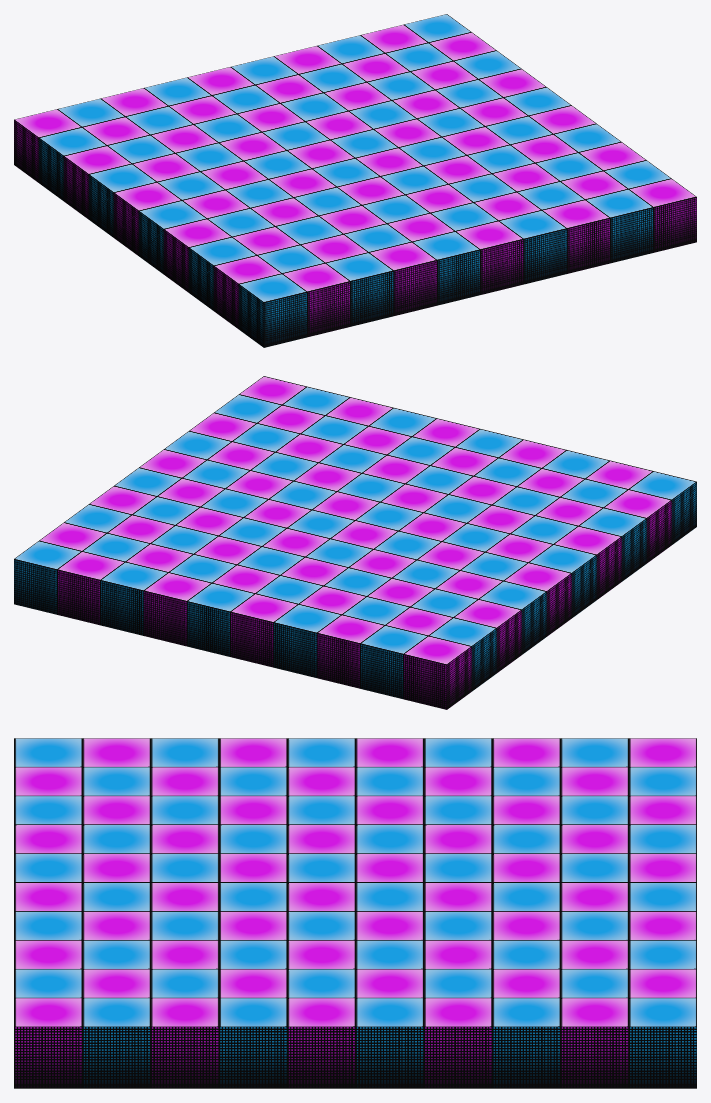
File: DJclub_Floor.fbx
3 renders of one model, top to bottom at view 1: azimuth 30°, elevation 25°; view 2: azimuth 150°, elevation 25°; view 3: azimuth 270°, elevation 25°, orthographic. The views are drawn at different scales.
Visible parts, largest first — view 1: pasted__pasted__pasted__pCube23 (×2), pasted__pasted__pasted__pasted__pCube16, pasted__pasted__pasted__pCube21, pasted__pasted__pasted__pCube22, pasted__pasted__pasted__pasted__pCube21, pasted__pasted__pasted__pCube16, pasted__pasted__pasted__pCube17, pasted__pasted__pasted__pasted__pCube17, pasted__pasted__pasted__pasted__pCube22, pasted__pasted__pasted__pasted__pCube23, pasted__pasted__pasted__pasted__pCube10, pasted__pCube1 (+86 smaller); view 2: pCube1, pasted__pasted__pasted__pCube23 (×2), pasted__pCube24, pCube2, pasted__pasted__pCube4, pasted__pasted__pCube9, pasted__pCube3, pasted__pasted__pCube1, pasted__pCube23, pasted__pasted__pasted__pCube1, pasted__pCube8, pasted__pCube1 (+86 smaller); view 3: pasted__pasted__pCube17, pasted__pasted__pCube18, pasted__pasted__pCube19, pasted__pasted__pCube20, pasted__pasted__pasted__pCube1, pasted__pasted__pasted__pCube17, pasted__pasted__pasted__pCube18, pasted__pasted__pasted__pCube19, pasted__pasted__pasted__pCube20, pasted__pasted__pasted__pasted__pCube1, pasted__pasted__pCube23 (×2), pasted__pasted__pasted__pCube23 (×2) (+86 smaller).
Boxes of the visible parts, x1,y1,x2,y2 form: pasted__pasted__pasted__pCube23 (×2): [139, 189, 653, 274]; pasted__pasted__pasted__pasted__pCube16: [239, 274, 307, 347]; pasted__pasted__pasted__pCube21: [499, 210, 566, 284]; pasted__pasted__pasted__pCube22: [542, 200, 610, 273]; pasted__pasted__pasted__pasted__pCube21: [282, 263, 350, 337]; pasted__pasted__pasted__pCube16: [456, 221, 523, 294]; pasted__pasted__pasted__pCube17: [629, 179, 696, 252]; pasted__pasted__pasted__pasted__pCube17: [412, 231, 480, 305]; pasted__pasted__pasted__pasted__pCube22: [326, 252, 393, 326]; pasted__pasted__pasted__pasted__pCube23: [369, 242, 437, 315]; pasted__pasted__pasted__pasted__pCube10: [214, 255, 281, 329]; pasted__pCube1: [39, 127, 106, 201]; pCube1: [403, 636, 471, 709]; pasted__pasted__pasted__pCube23 (×2): [282, 386, 596, 617]; pasted__pCube24: [144, 572, 211, 646]; pCube2: [360, 625, 428, 699]; pasted__pasted__pCube4: [100, 562, 168, 635]; pasted__pasted__pCube9: [57, 551, 125, 625]; pasted__pCube3: [317, 614, 384, 688]; pasted__pasted__pCube1: [230, 593, 298, 667]; pasted__pCube23: [187, 583, 254, 656]; pasted__pasted__pasted__pCube1: [14, 541, 81, 614]; pasted__pCube8: [273, 604, 341, 677]; pasted__pCube1: [429, 617, 496, 691]; pasted__pasted__pCube17: [355, 998, 423, 1088]; pasted__pasted__pCube18: [560, 998, 628, 1088]; pasted__pasted__pCube19: [492, 998, 560, 1088]; pasted__pasted__pCube20: [423, 998, 491, 1088]; pasted__pasted__pasted__pCube1: [628, 998, 696, 1088]; pasted__pasted__pasted__pCube17: [14, 998, 82, 1088]; pasted__pasted__pasted__pCube18: [219, 998, 287, 1088]; pasted__pasted__pasted__pCube19: [150, 998, 218, 1088]; pasted__pasted__pasted__pCube20: [82, 998, 150, 1088]; pasted__pasted__pasted__pasted__pCube1: [287, 998, 355, 1088]; pasted__pasted__pCube23 (×2): [287, 882, 423, 997]; pasted__pasted__pasted__pCube23 (×2): [14, 738, 355, 997].
Size of the model in its own units: 250 by 25 by 250.
Materials: 2 (2 with a texture image).
